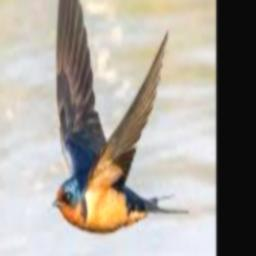Swallow: (51, 0, 189, 232)
